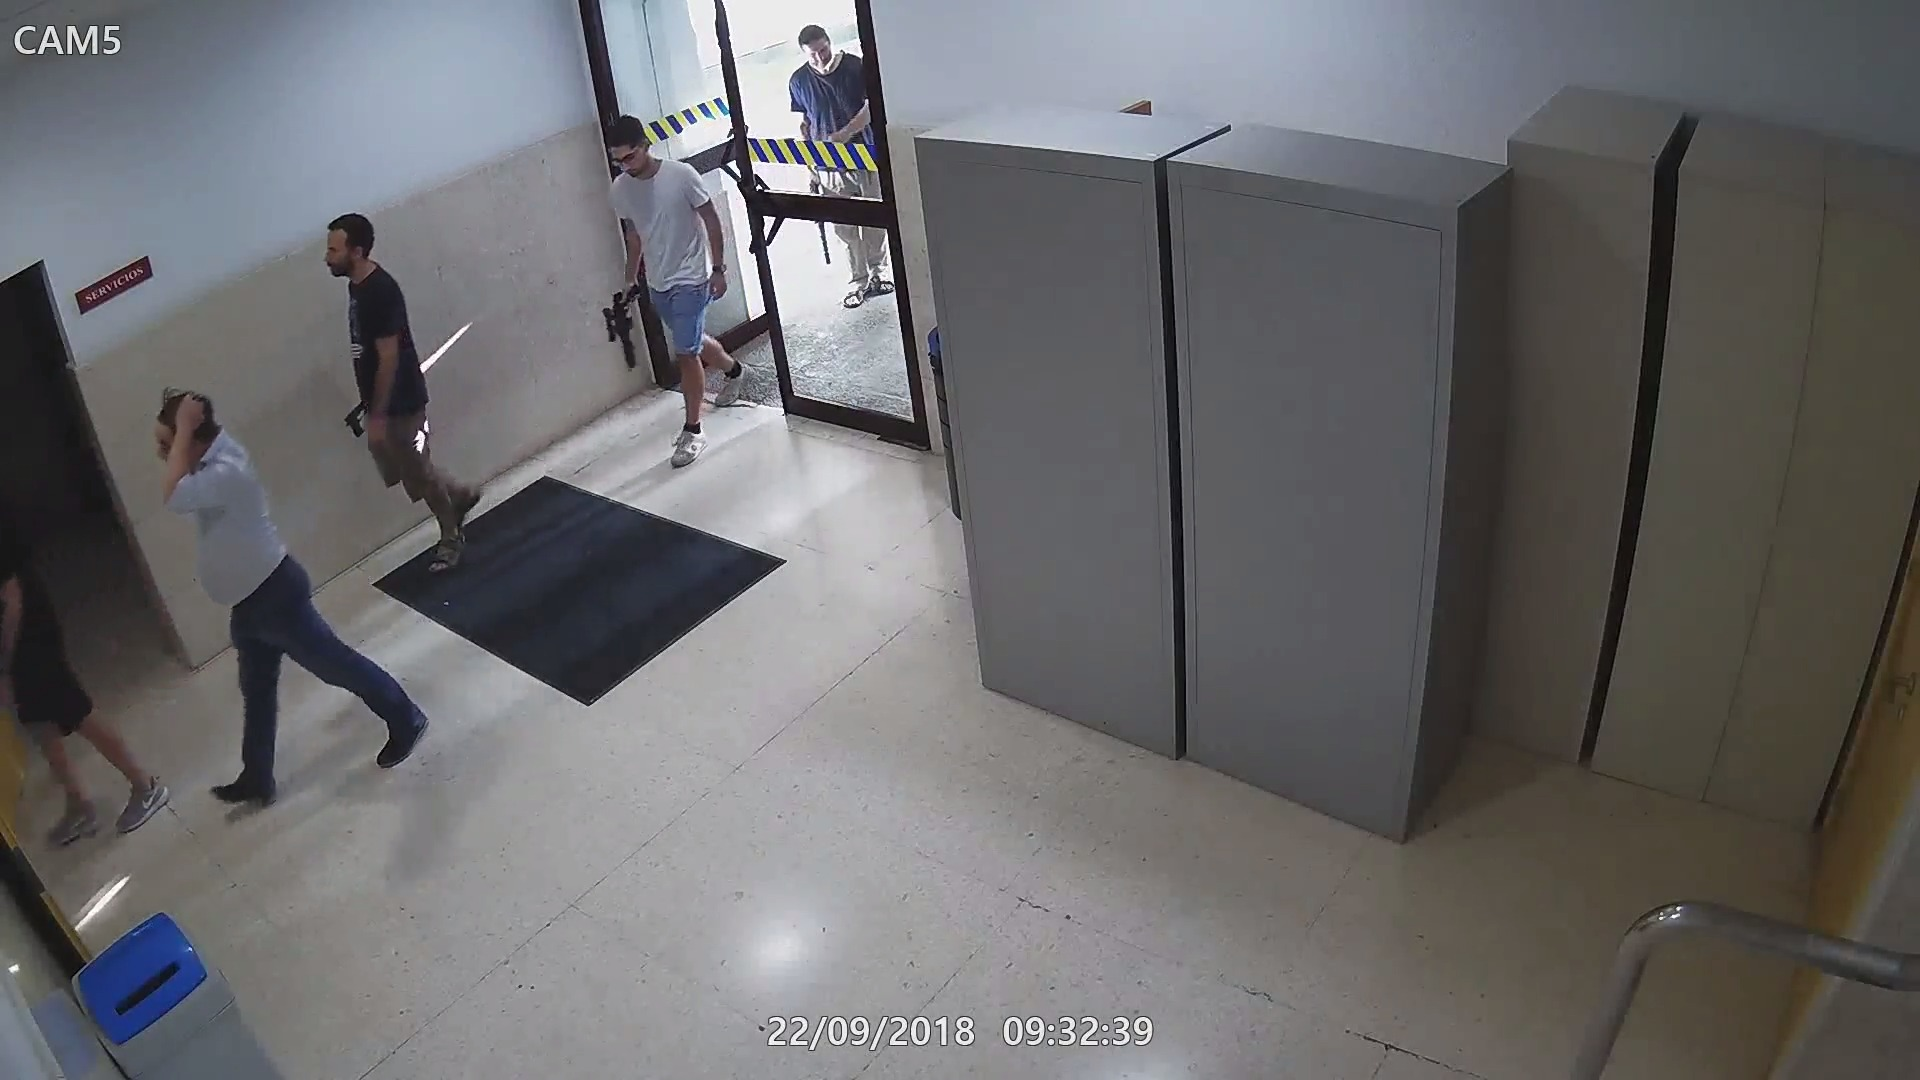Handgun: (338, 404, 371, 436)
Short_rifle: (599, 280, 650, 372), (804, 167, 837, 266)
